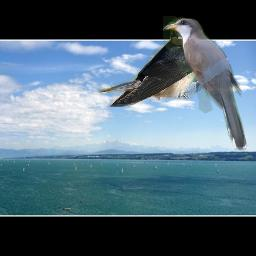Cuckoo: (163, 16, 250, 153)
Swallow: (97, 22, 203, 107)
